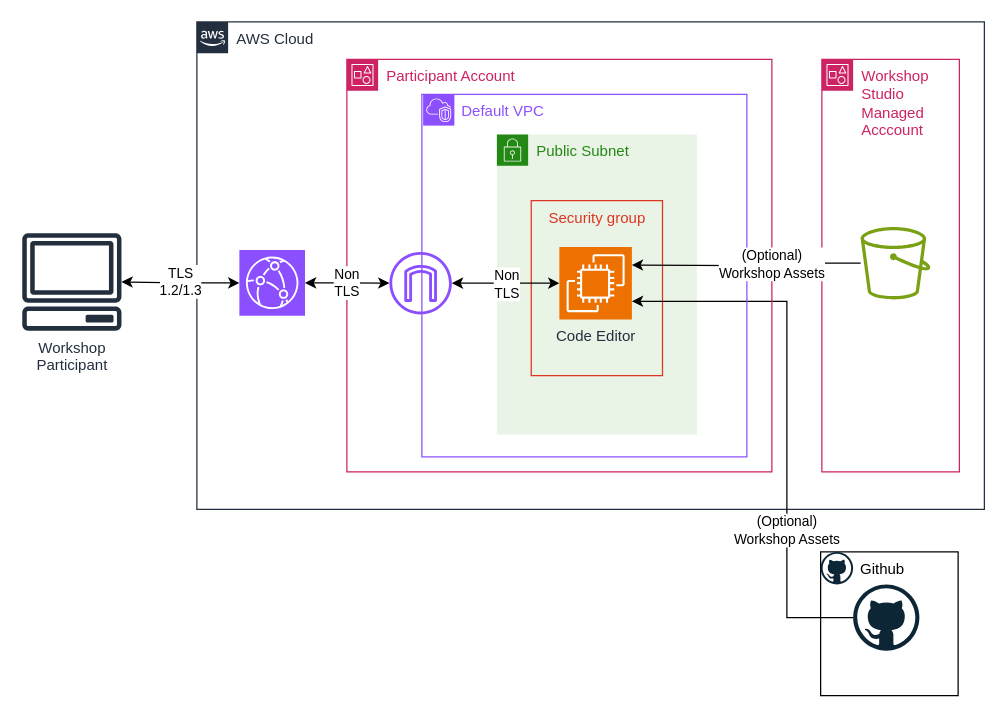
Some shapes in this 1006 by 728 pixel diagram are drawn without their labels. Here are the shapes that lost their labels. From the top down, the box of each, then its label:
(238, 249, 305, 316): CloudFront
(389, 251, 451, 314): Internet Gateway
(860, 226, 930, 299): Build Bucket
(852, 583, 919, 651): Github Repo
